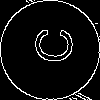C: (25, 25, 74, 65)
